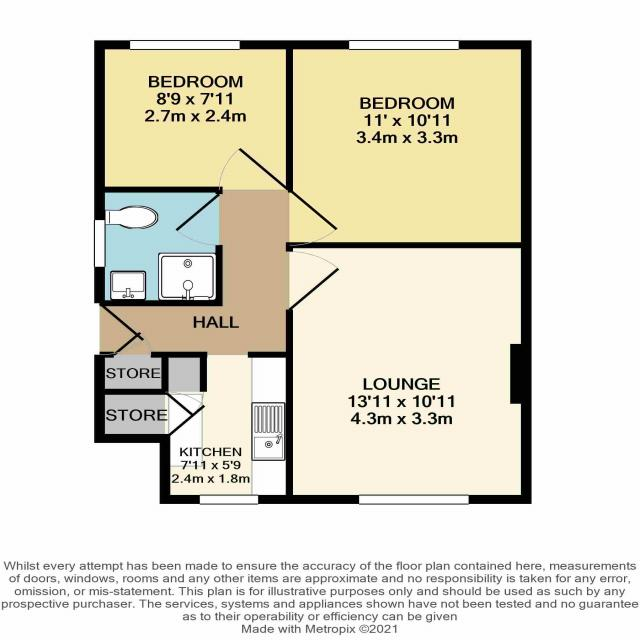DOOR: (217, 145, 295, 196), (284, 250, 343, 312), (287, 191, 342, 247), (172, 192, 224, 248), (94, 302, 143, 360)
ROOM: (93, 145, 340, 505), (285, 241, 533, 505), (285, 40, 533, 249), (94, 40, 294, 193)
WINDOW: (348, 38, 461, 52), (128, 39, 242, 51), (357, 494, 470, 506), (198, 494, 260, 506), (93, 219, 107, 268)
